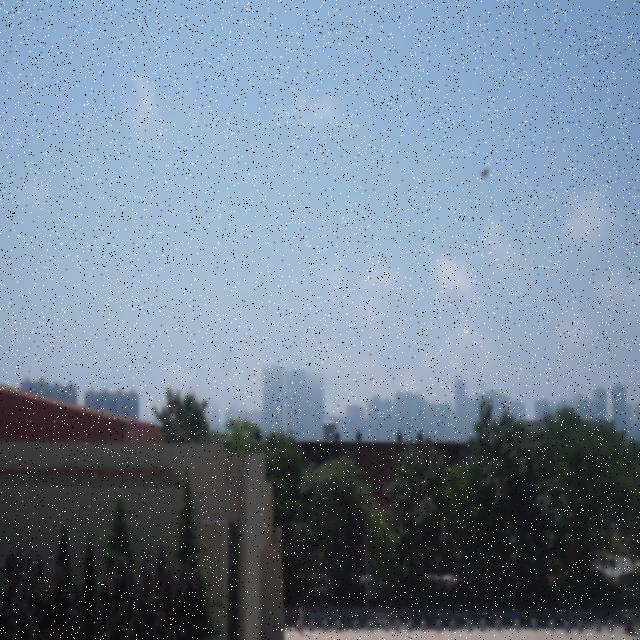UAV: (478, 166, 491, 181)
